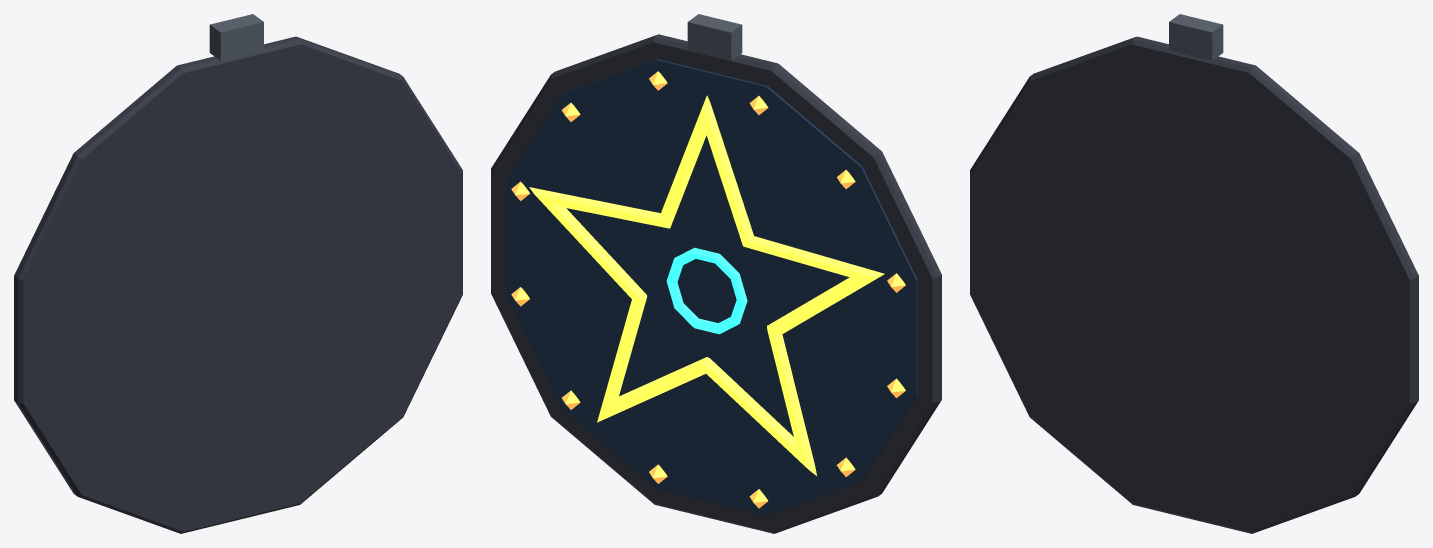
File: neon_sign_b.glb
The picture shows the model from 3 angles, left to right: view 1: azimuth 30°, elevation 25°; view 2: azimuth 150°, elevation 25°; view 3: azimuth 330°, elevation 25°; orthographic projection.
Parts seen in each view (by area): view 1: neon_sign_b; view 2: neon_sign_b; view 3: neon_sign_b.
Part boxes in pixels (box(x1,y1,x2,y2)): neon_sign_b: box(14, 14, 462, 533); neon_sign_b: box(491, 14, 941, 533); neon_sign_b: box(970, 14, 1418, 533).
Size of the model in its own units: 1.64 by 1.74 by 0.11.
